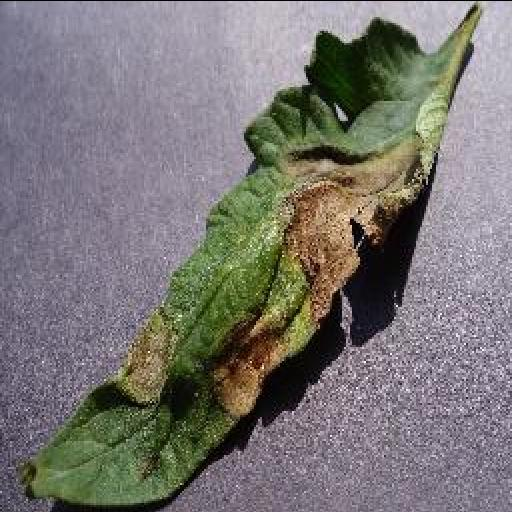disease_tomato: (13, 8, 487, 502)
